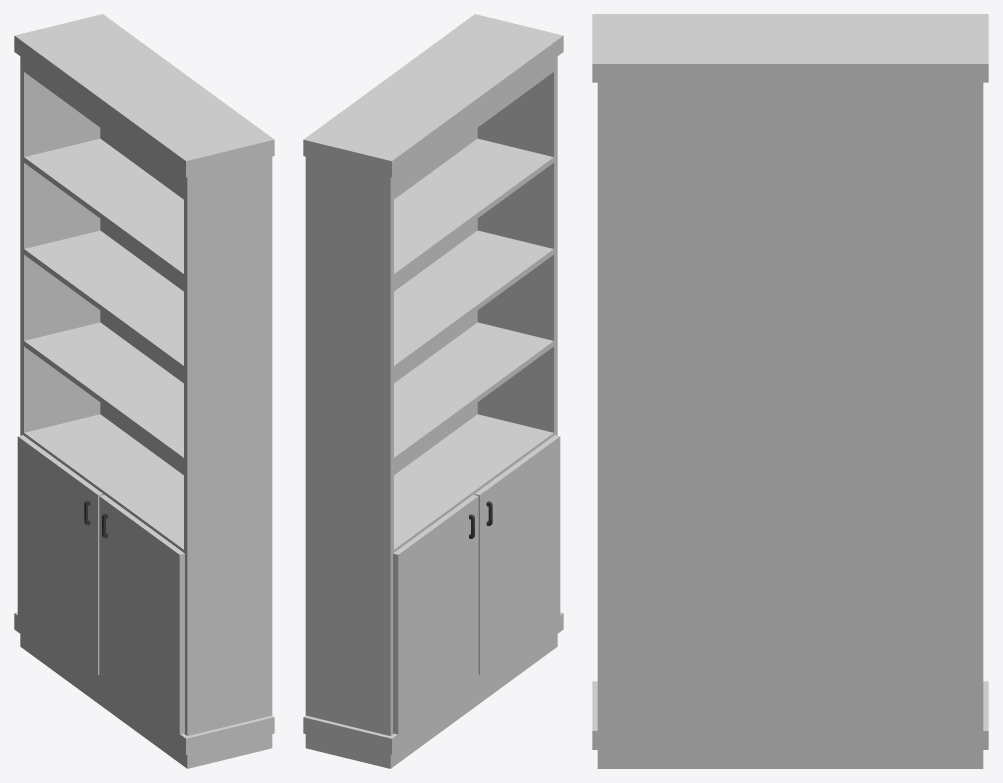
The model's file is Bookcase07.fbx.
3 renders of one model, left to right at view 1: azimuth 30°, elevation 25°; view 2: azimuth 150°, elevation 25°; view 3: azimuth 270°, elevation 25°, orthographic. The views are drawn at different scales.
Visible parts, largest first — view 1: Bookcase07, Cube.003, Cube.019; view 2: Bookcase07, Cube.019, Cube.003; view 3: Bookcase07.
Boxes of the visible parts, bbox=[...] form: Bookcase07: bbox=[14, 14, 274, 768]; Cube.003: bbox=[99, 494, 184, 734]; Cube.019: bbox=[17, 435, 103, 674]; Bookcase07: bbox=[303, 14, 563, 768]; Cube.019: bbox=[393, 494, 478, 734]; Cube.003: bbox=[474, 435, 560, 674]; Bookcase07: bbox=[592, 14, 988, 768].
Size of the model in its own units: 0.3002 by 0.9482 by 1.86.
